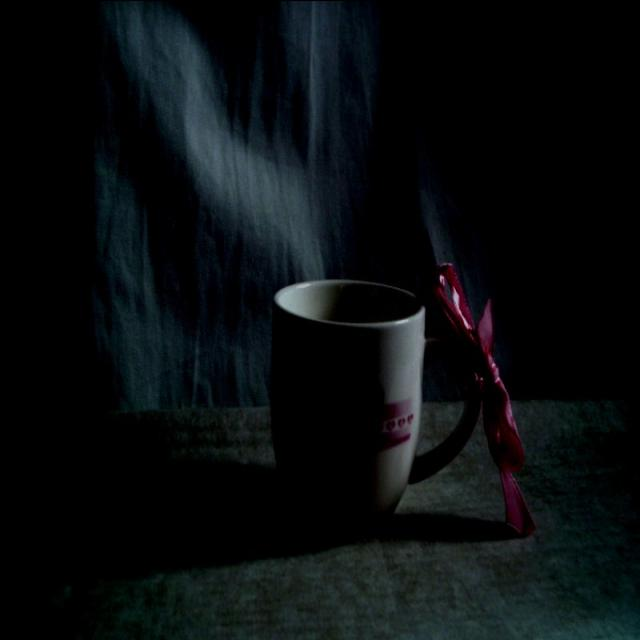Cup: (259, 271, 466, 588)
Table: (0, 381, 635, 640)
